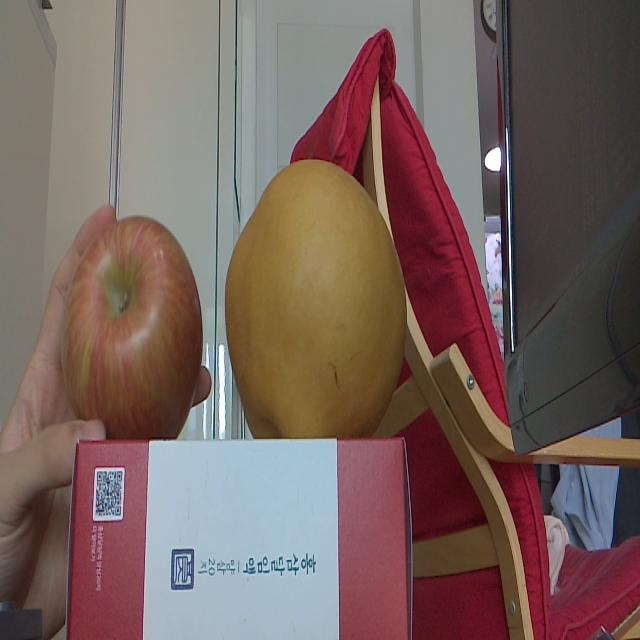apple: (64, 206, 207, 441)
pear: (223, 154, 410, 439)
